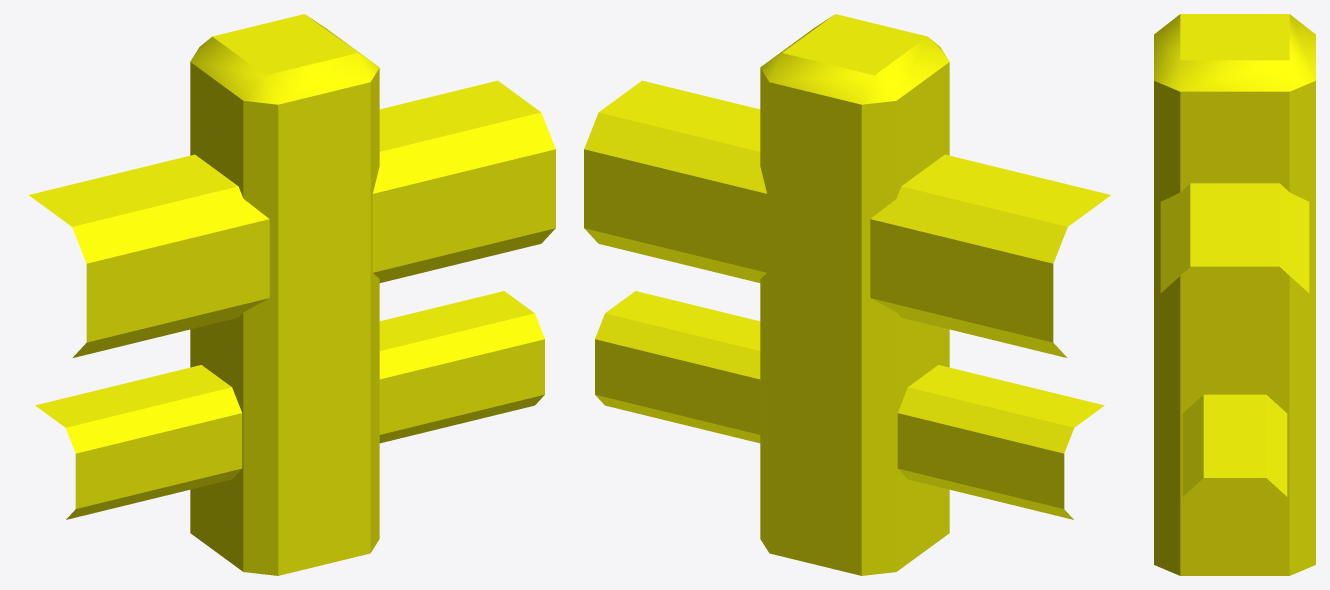
File: Fence_Center.glb
3 renders of one model, left to right at view 1: azimuth 30°, elevation 25°; view 2: azimuth 150°, elevation 25°; view 3: azimuth 270°, elevation 25°, orthographic. The views are drawn at different scales.
Visible parts, largest first — view 1: Fence_Center; view 2: Fence_Center; view 3: Fence_Center.
Part boxes in pixels (<box>): Fence_Center: <box>29,14,555,575</box>; Fence_Center: <box>584,14,1110,575</box>; Fence_Center: <box>1154,14,1315,575</box>.
Size of the model in its own units: 2 by 2 by 0.5812.
Materials: 1 (1 with a texture image).
